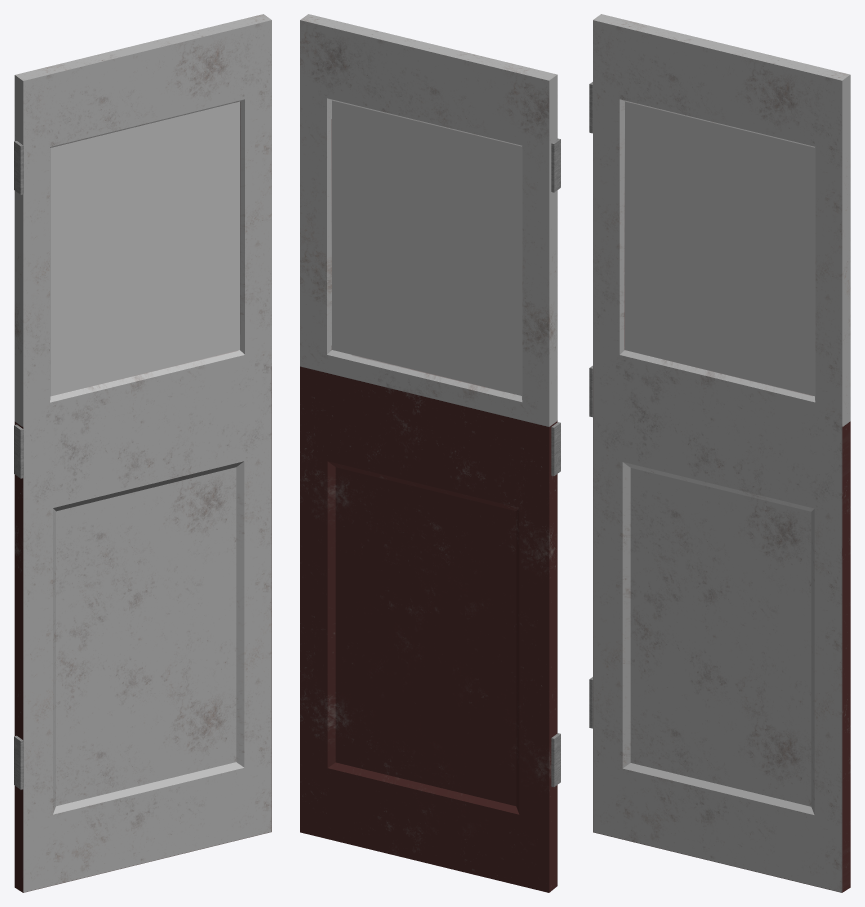
The model's file is SM_White_Door.fbx.
3 renders of one model, left to right at view 1: azimuth 30°, elevation 25°; view 2: azimuth 150°, elevation 25°; view 3: azimuth 330°, elevation 25°, orthographic.
Parts seen in each view (by area): view 1: SM_White_Door; view 2: SM_White_Door; view 3: SM_White_Door.
Part boxes in pixels (x1=…): SM_White_Door: x1=14, y1=14, x2=271, y2=892; SM_White_Door: x1=300, y1=14, x2=560, y2=892; SM_White_Door: x1=589, y1=14, x2=850, y2=892.
Bounding box in the file's own units: 73.4 × 4.58 × 226.
Materials: 2 (1 with a texture image).
